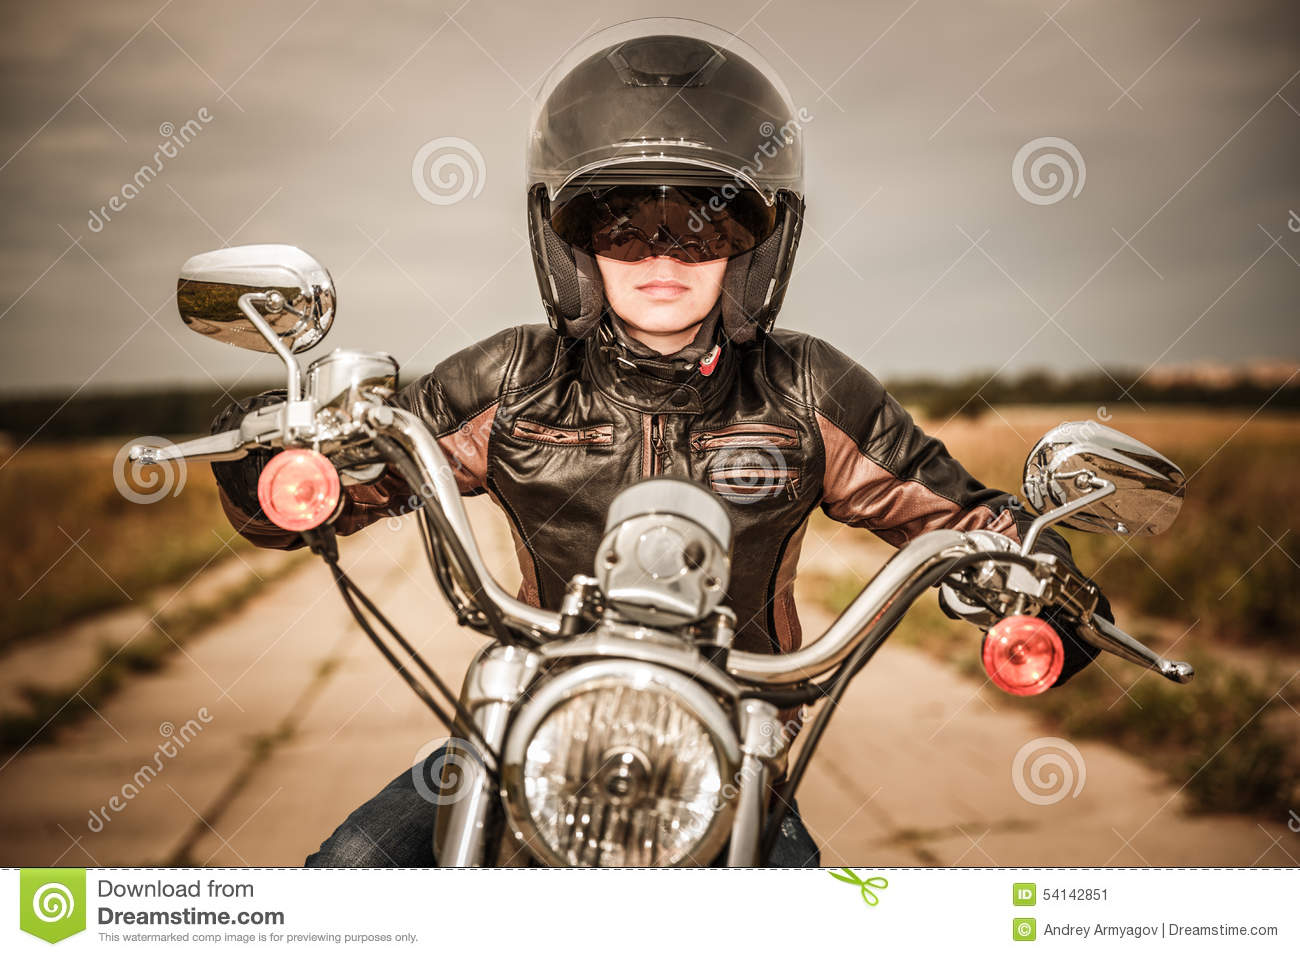helmet: (523, 30, 801, 326)
